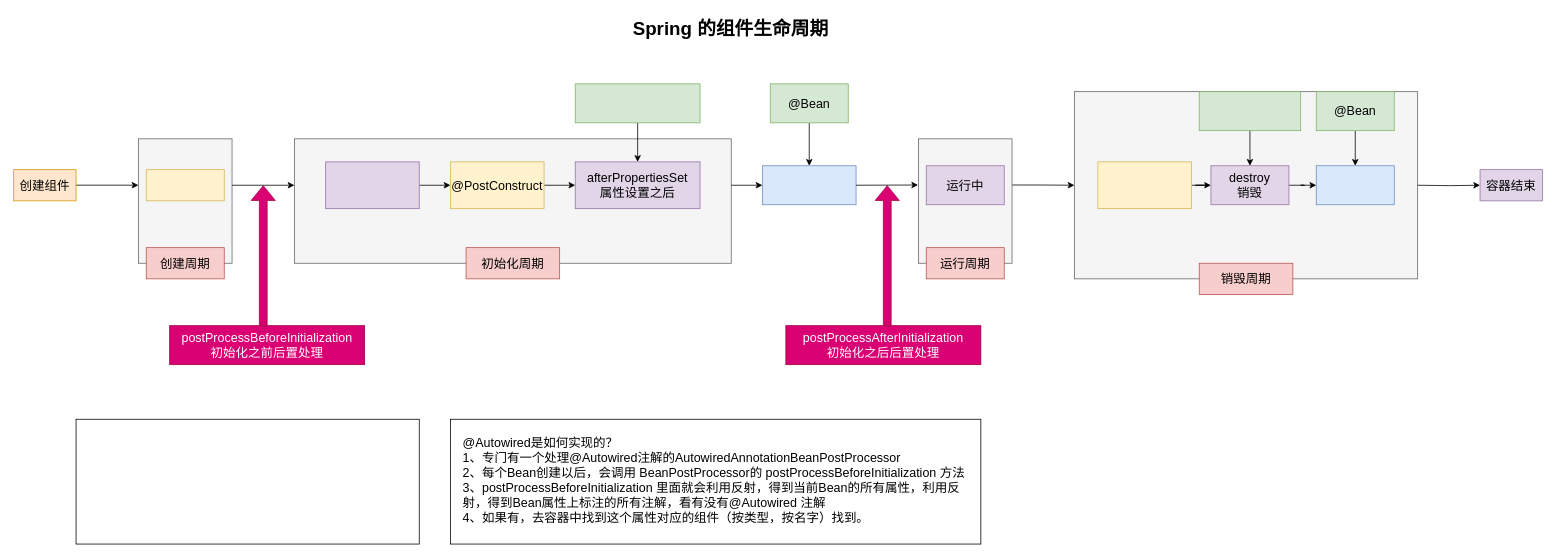
Image size: 1556x558. Some labels were removed from this diagram. Each missing label, with the centre of its shape:
"@Autowired set属性注入" goes at [372,185].
"@PreDestroy" goes at [1144,185].
"destory指定 销毁方法" goes at [1354,185].
"DisposableBean" goes at [1249,111].
"init 指定 初始化方法" goes at [809,185].
"InitializingBean" goes at [637,103].
"扩展： 1、定义：自定义注解：@UUID 2、标注在任何Bean的String属性上 3、以后获取到的这个Bean的这个属性就是一个随机值" goes at [247,481].
"构造器" goes at [184,185].
